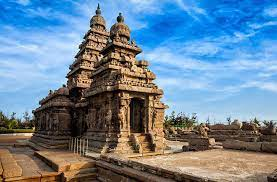Temple: (31, 10, 178, 153)
